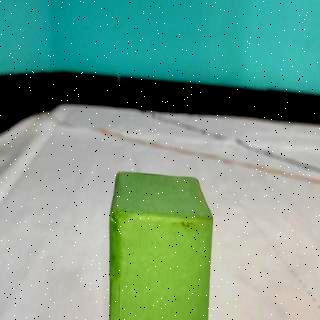greenbox: (108, 169, 215, 320)
